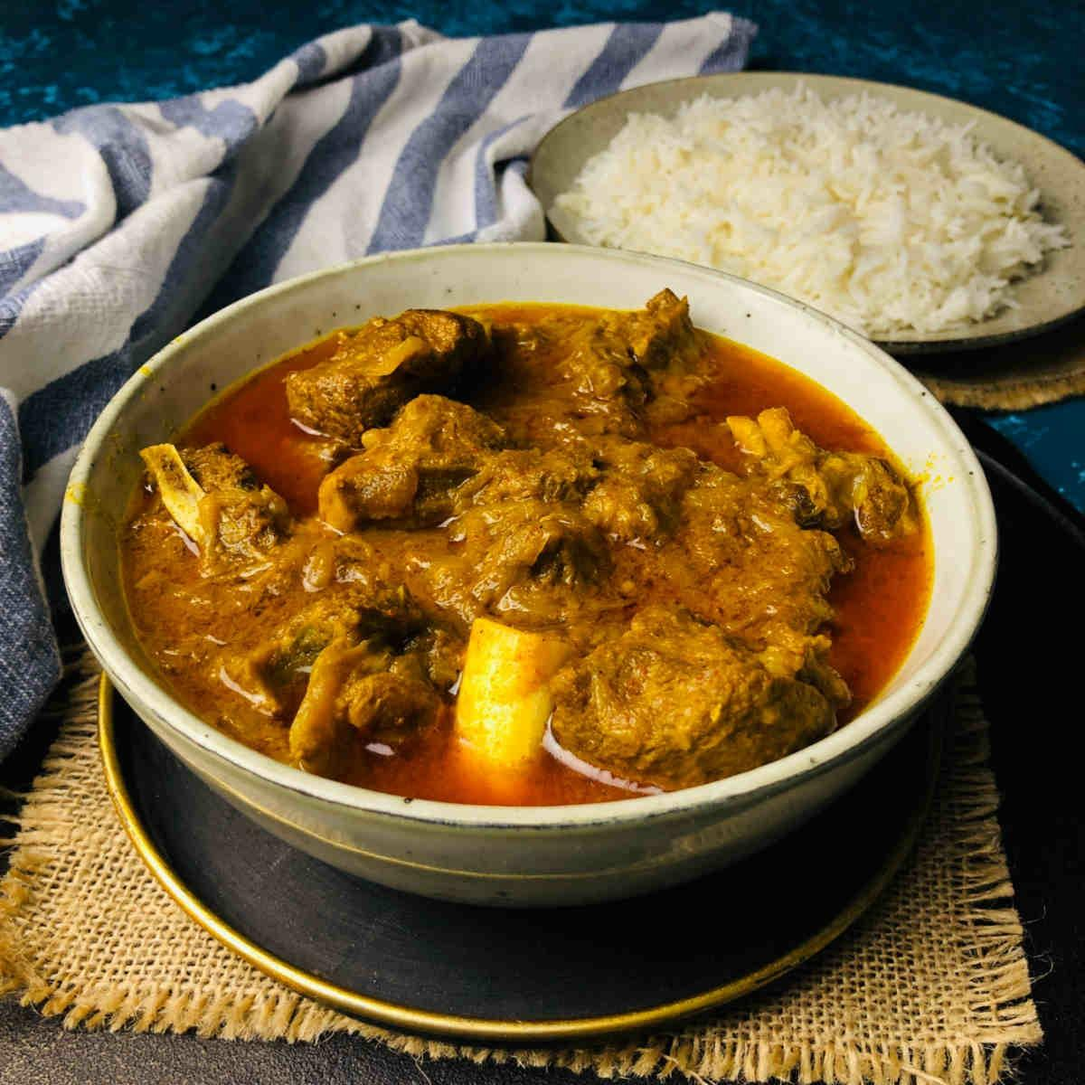MuttonCurry: (125, 284, 925, 804)
WhiteRice: (565, 90, 1061, 334)
